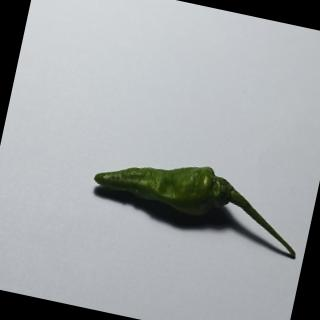Cabai Hijau: (80, 140, 313, 265)
